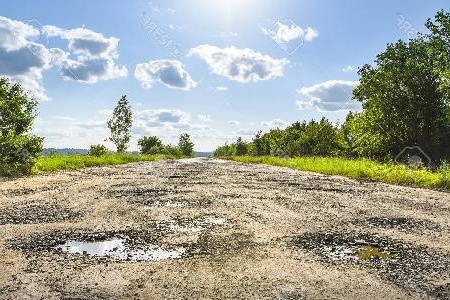pothole: (24, 225, 200, 262), (297, 229, 420, 271), (363, 213, 420, 233)
